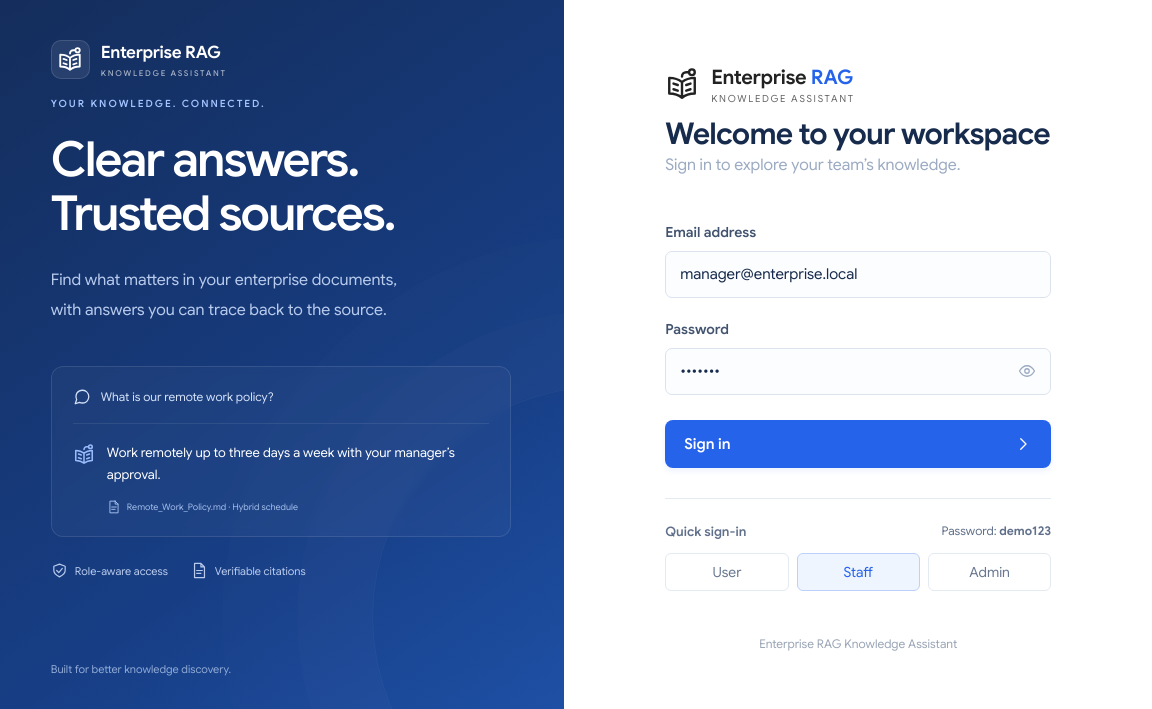
Scenario: Sprint 4 frontend workflows › marks revoked citations unavailable on restore without displaying cached source content
Click the button "User" at [727, 572], box [665,553,788,591]
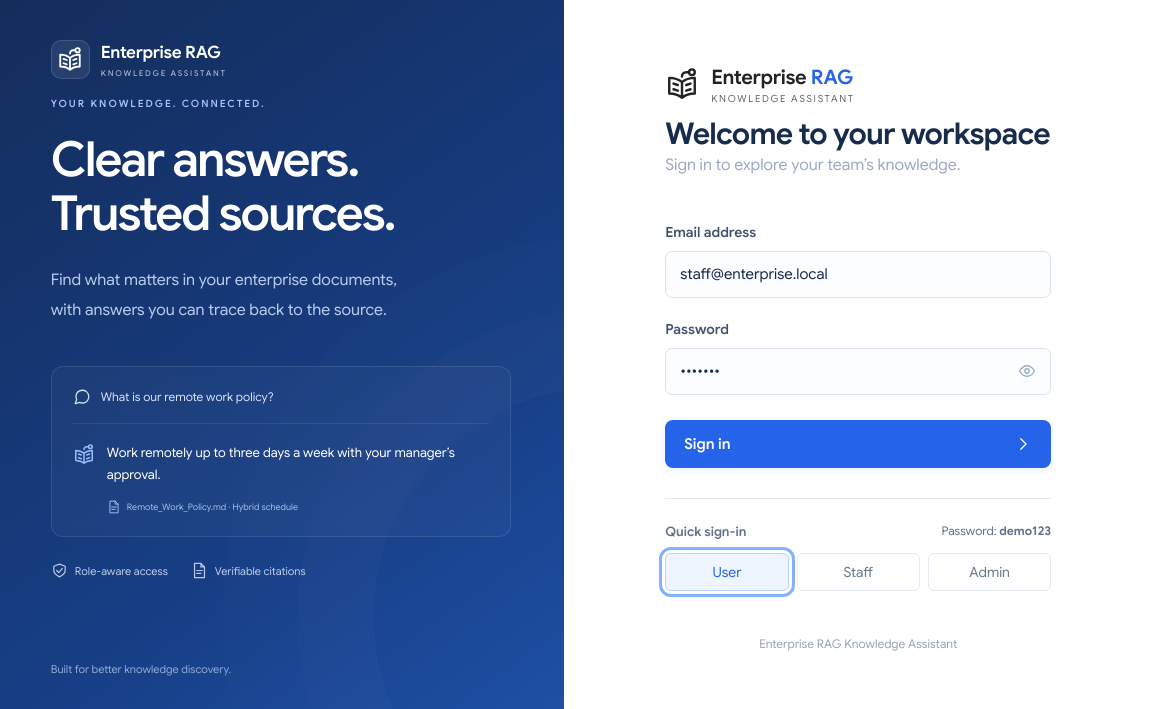
Click the button "Sign in" at [707, 444], box [665,420,1051,468]
(page scrolled)
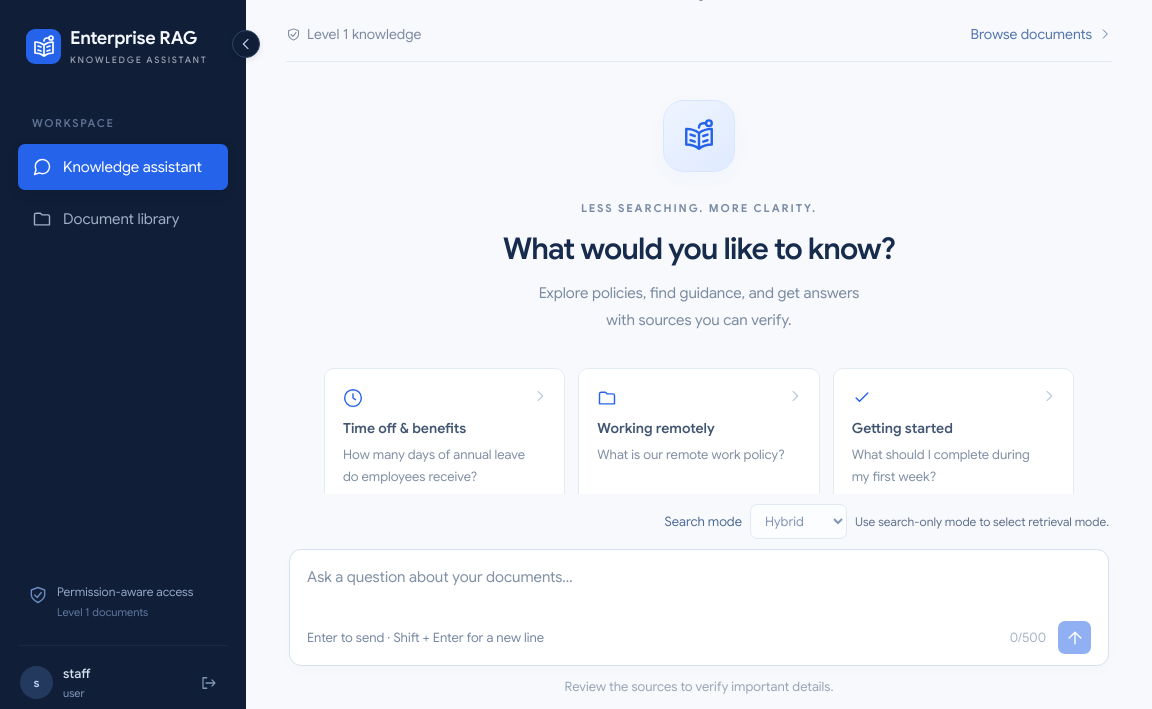
Type "annual leave" into the text box labelled "Ask a question about your documents" at [699, 590], box [307,565,1091,616]
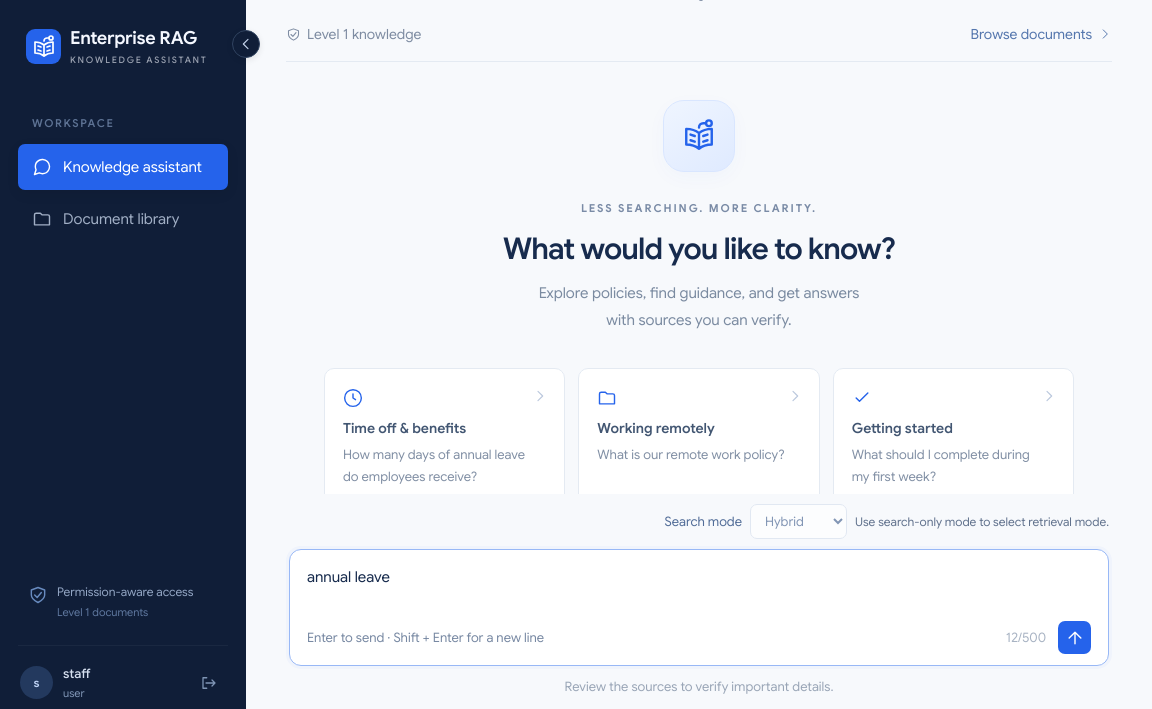
Click the button named "Send question" at [1074, 638], box [1058,621,1091,654]
(page scrolled)
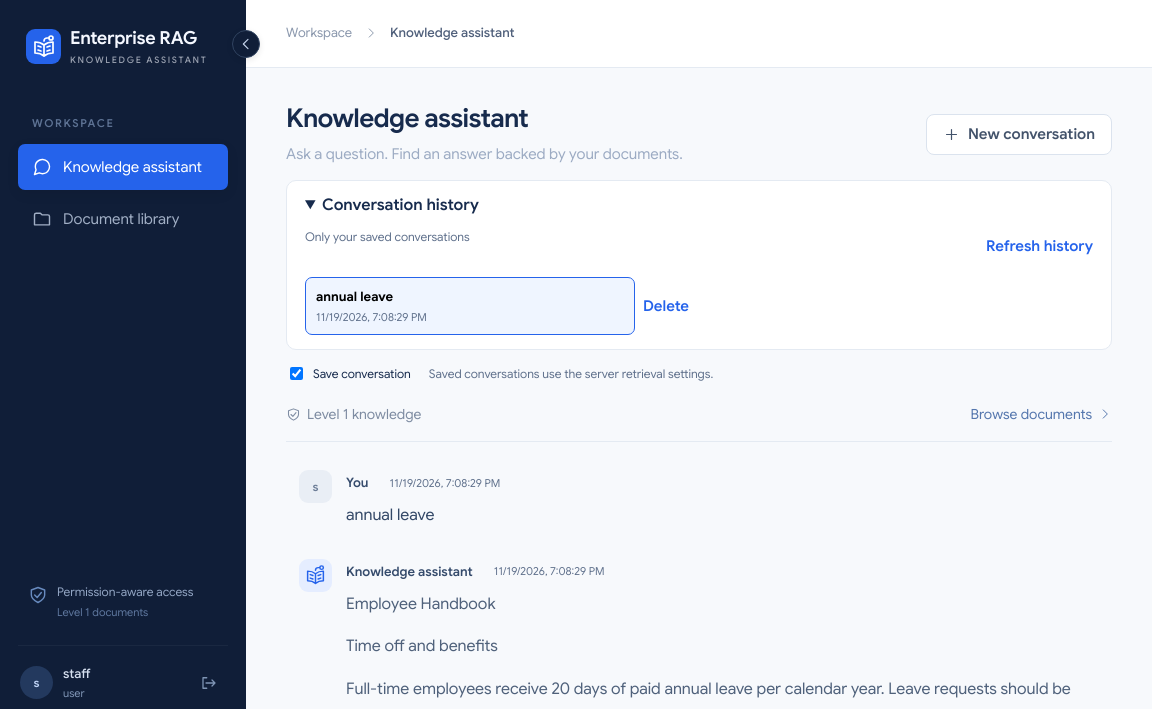
Click the button "New conversation" at [1019, 134], box [926,114,1112,154]
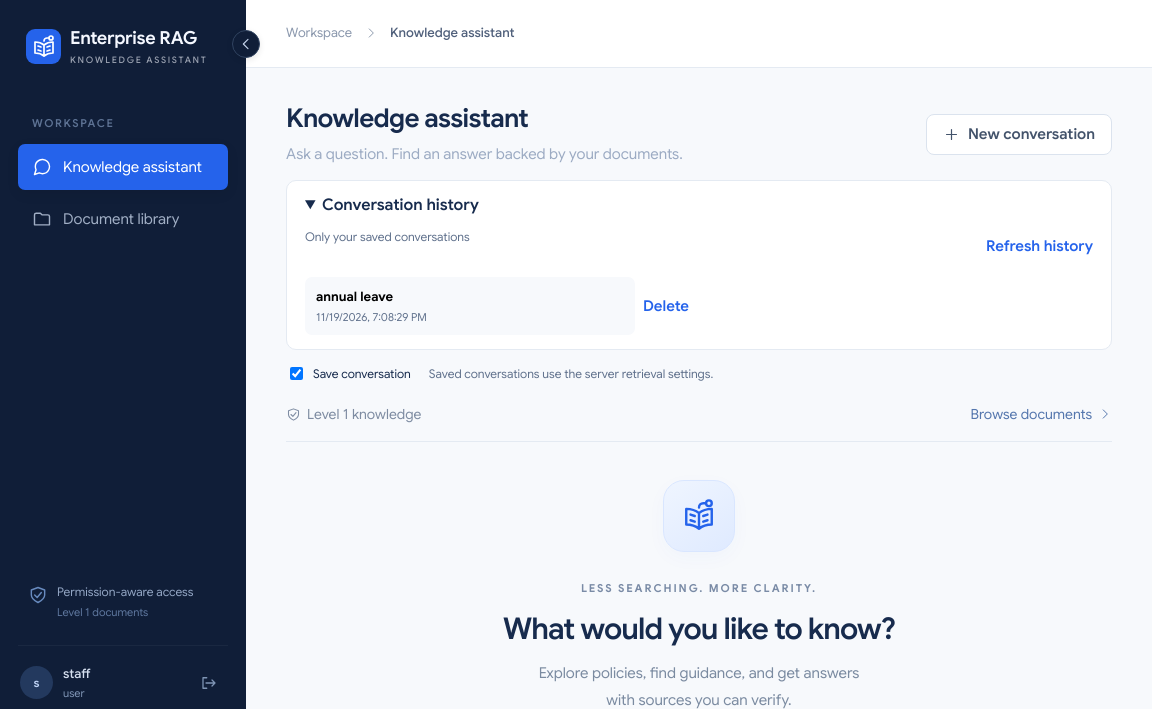
Click the button "annual leave 11/19/2026, 7:08:29 PM" at [355, 296], box [305,277,635,335]
(page scrolled)
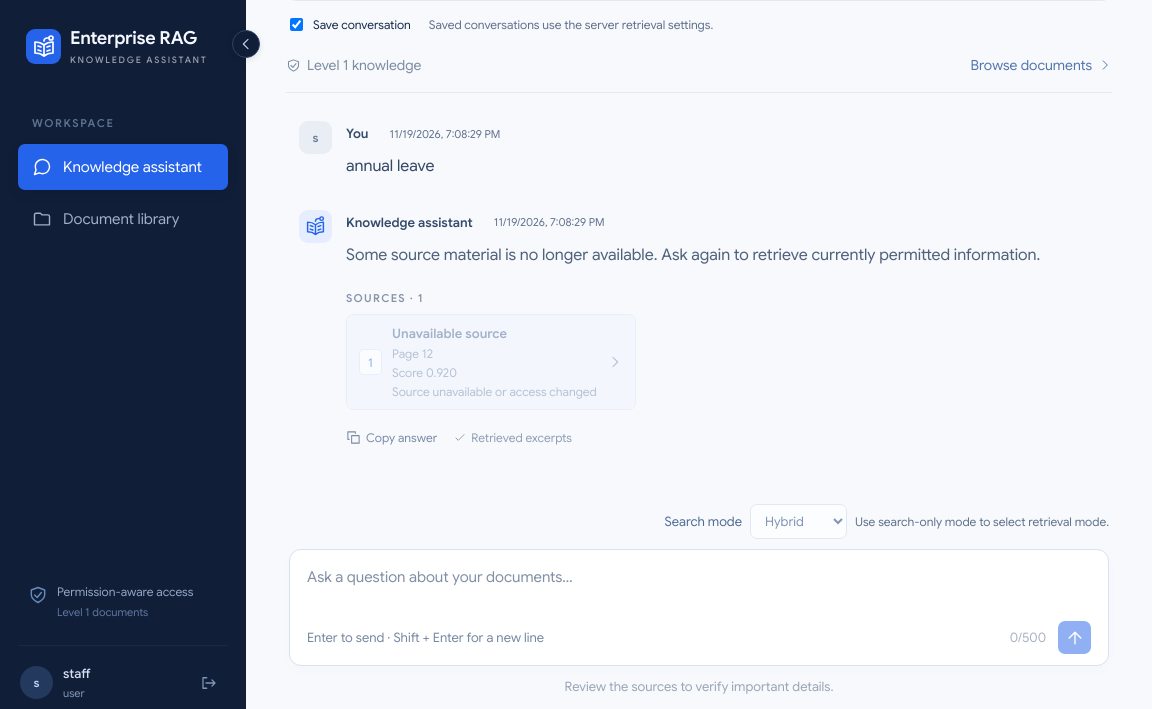
Expected: the text "Full-time employees receive 20 days" is not shown
Expected: the button "Unavailable source" is disabled, [346,314,636,410]
Expected: the button "Unavailable source" shows "Page 12", [346,314,636,410]
